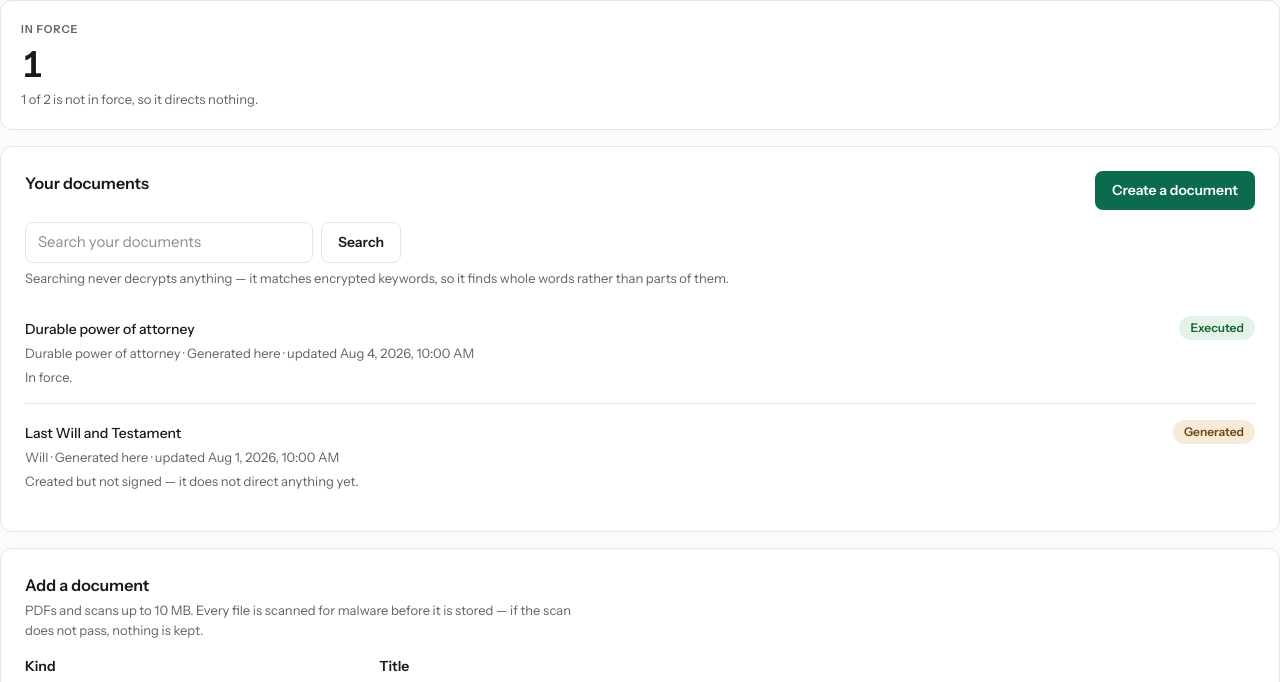
encrypted search › sends the trimmed query and shows only the matches
Check: the link "Last Will and Testament" is shown, box [25, 424, 181, 442]
Type "  power  " into the field labelled "Search your documents" at (169,242), box [25, 222, 313, 262]
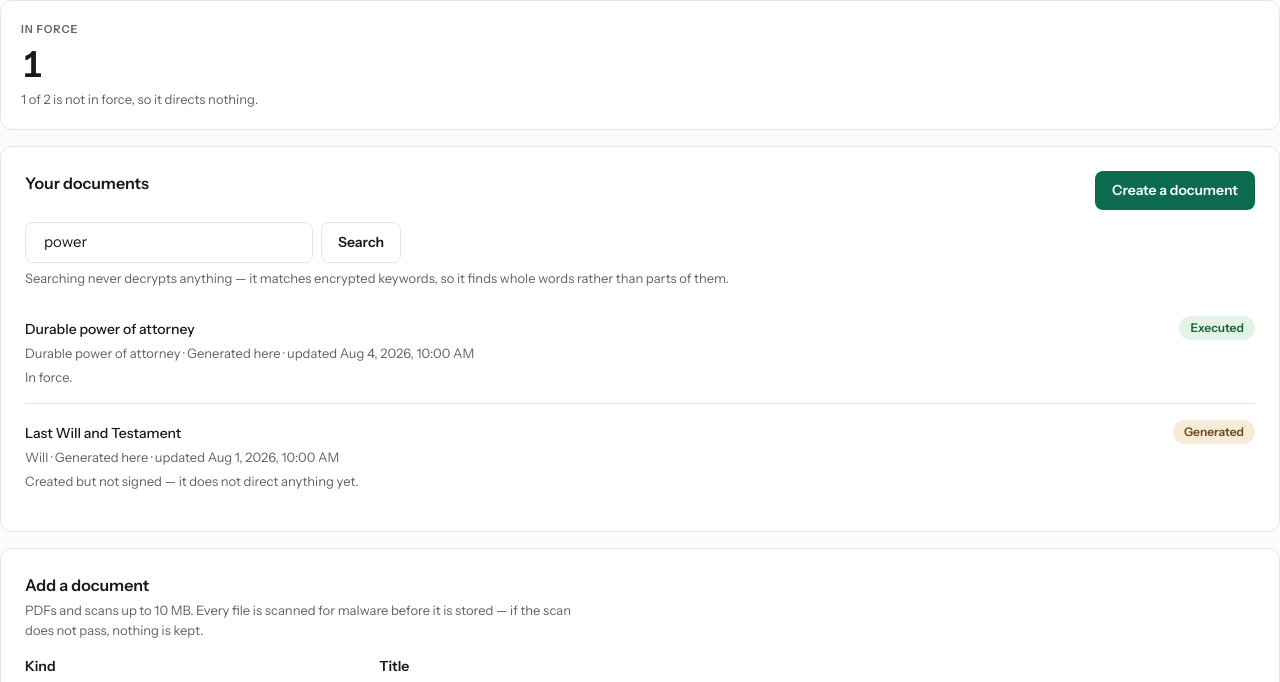
Click the button "Search" at (361,242), box [321, 222, 401, 262]
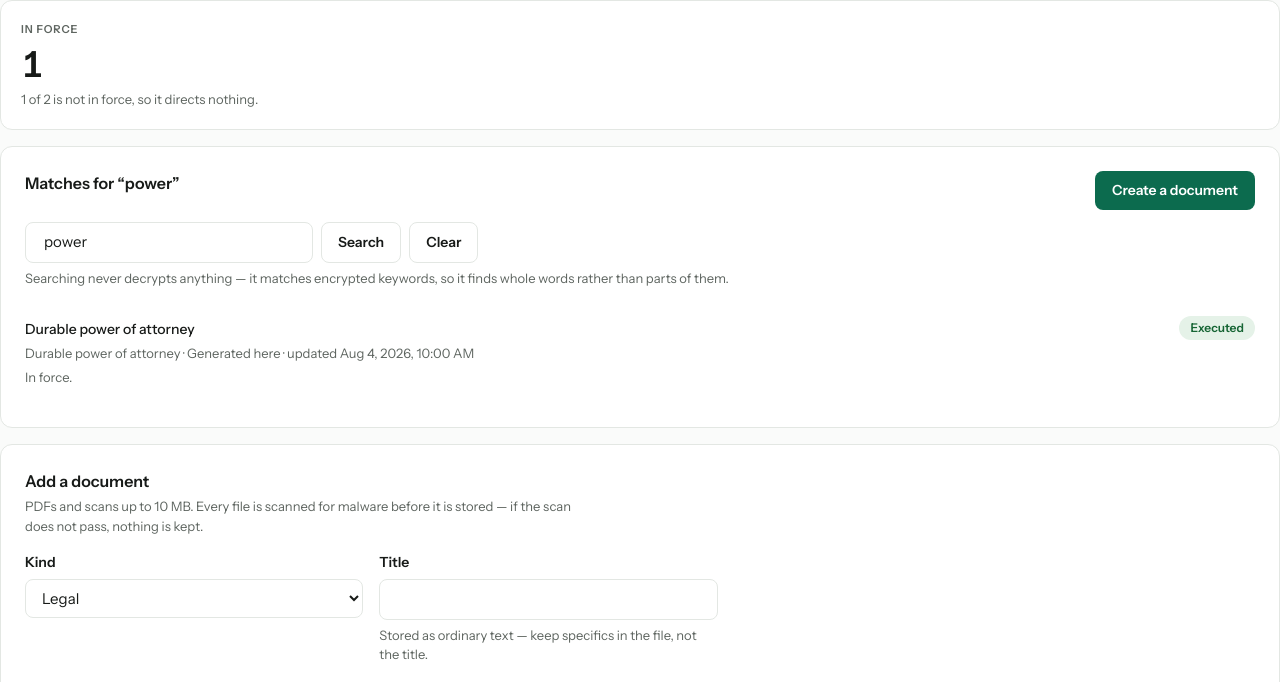
Check: the link "Durable power of attorney" is shown, box [25, 320, 195, 338]
Check: the heading "Matches for “power”" is shown, box [25, 171, 180, 195]
Check: the link "Last Will and Testament" is gone
